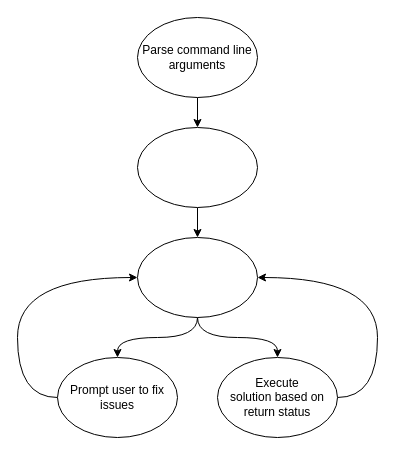
This 395x455 diagram has some shape labels left out. Each missing label, with the centre of its shape:
"Build issue tests & solutions" belongs at pixel 197 167.
"Execute shell files" belongs at pixel 197 277.
